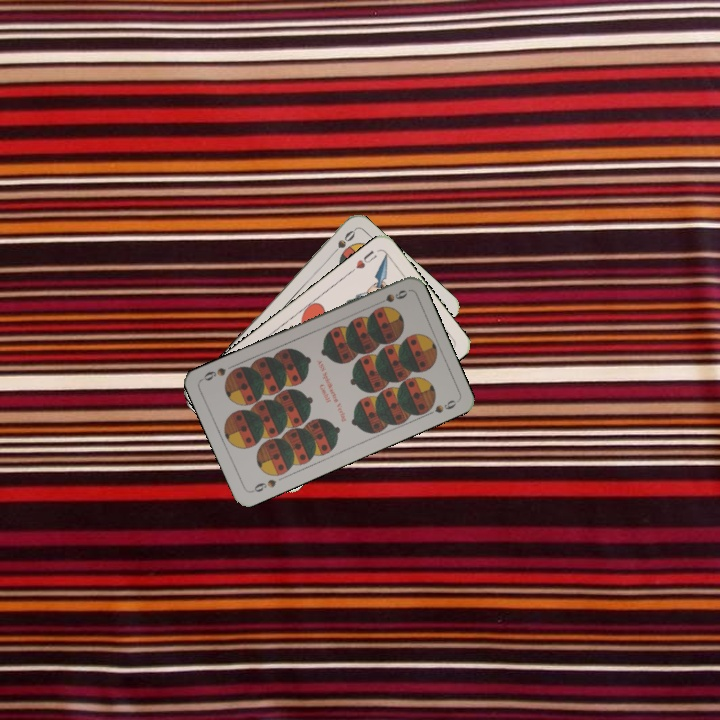HU: (346, 246, 380, 275)
S9: (371, 286, 410, 308), (247, 475, 279, 495)
SO: (326, 226, 358, 259)
